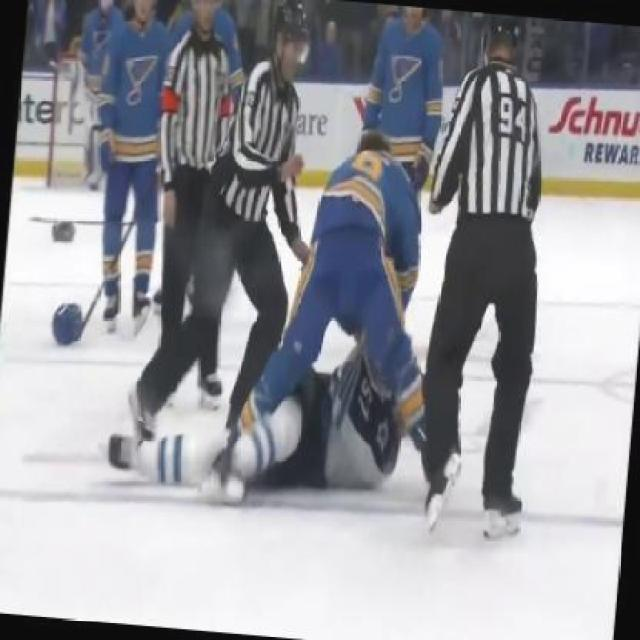fight: (256, 124, 438, 502)
non-fight: (401, 10, 570, 539), (183, 0, 314, 315), (76, 0, 182, 337)
